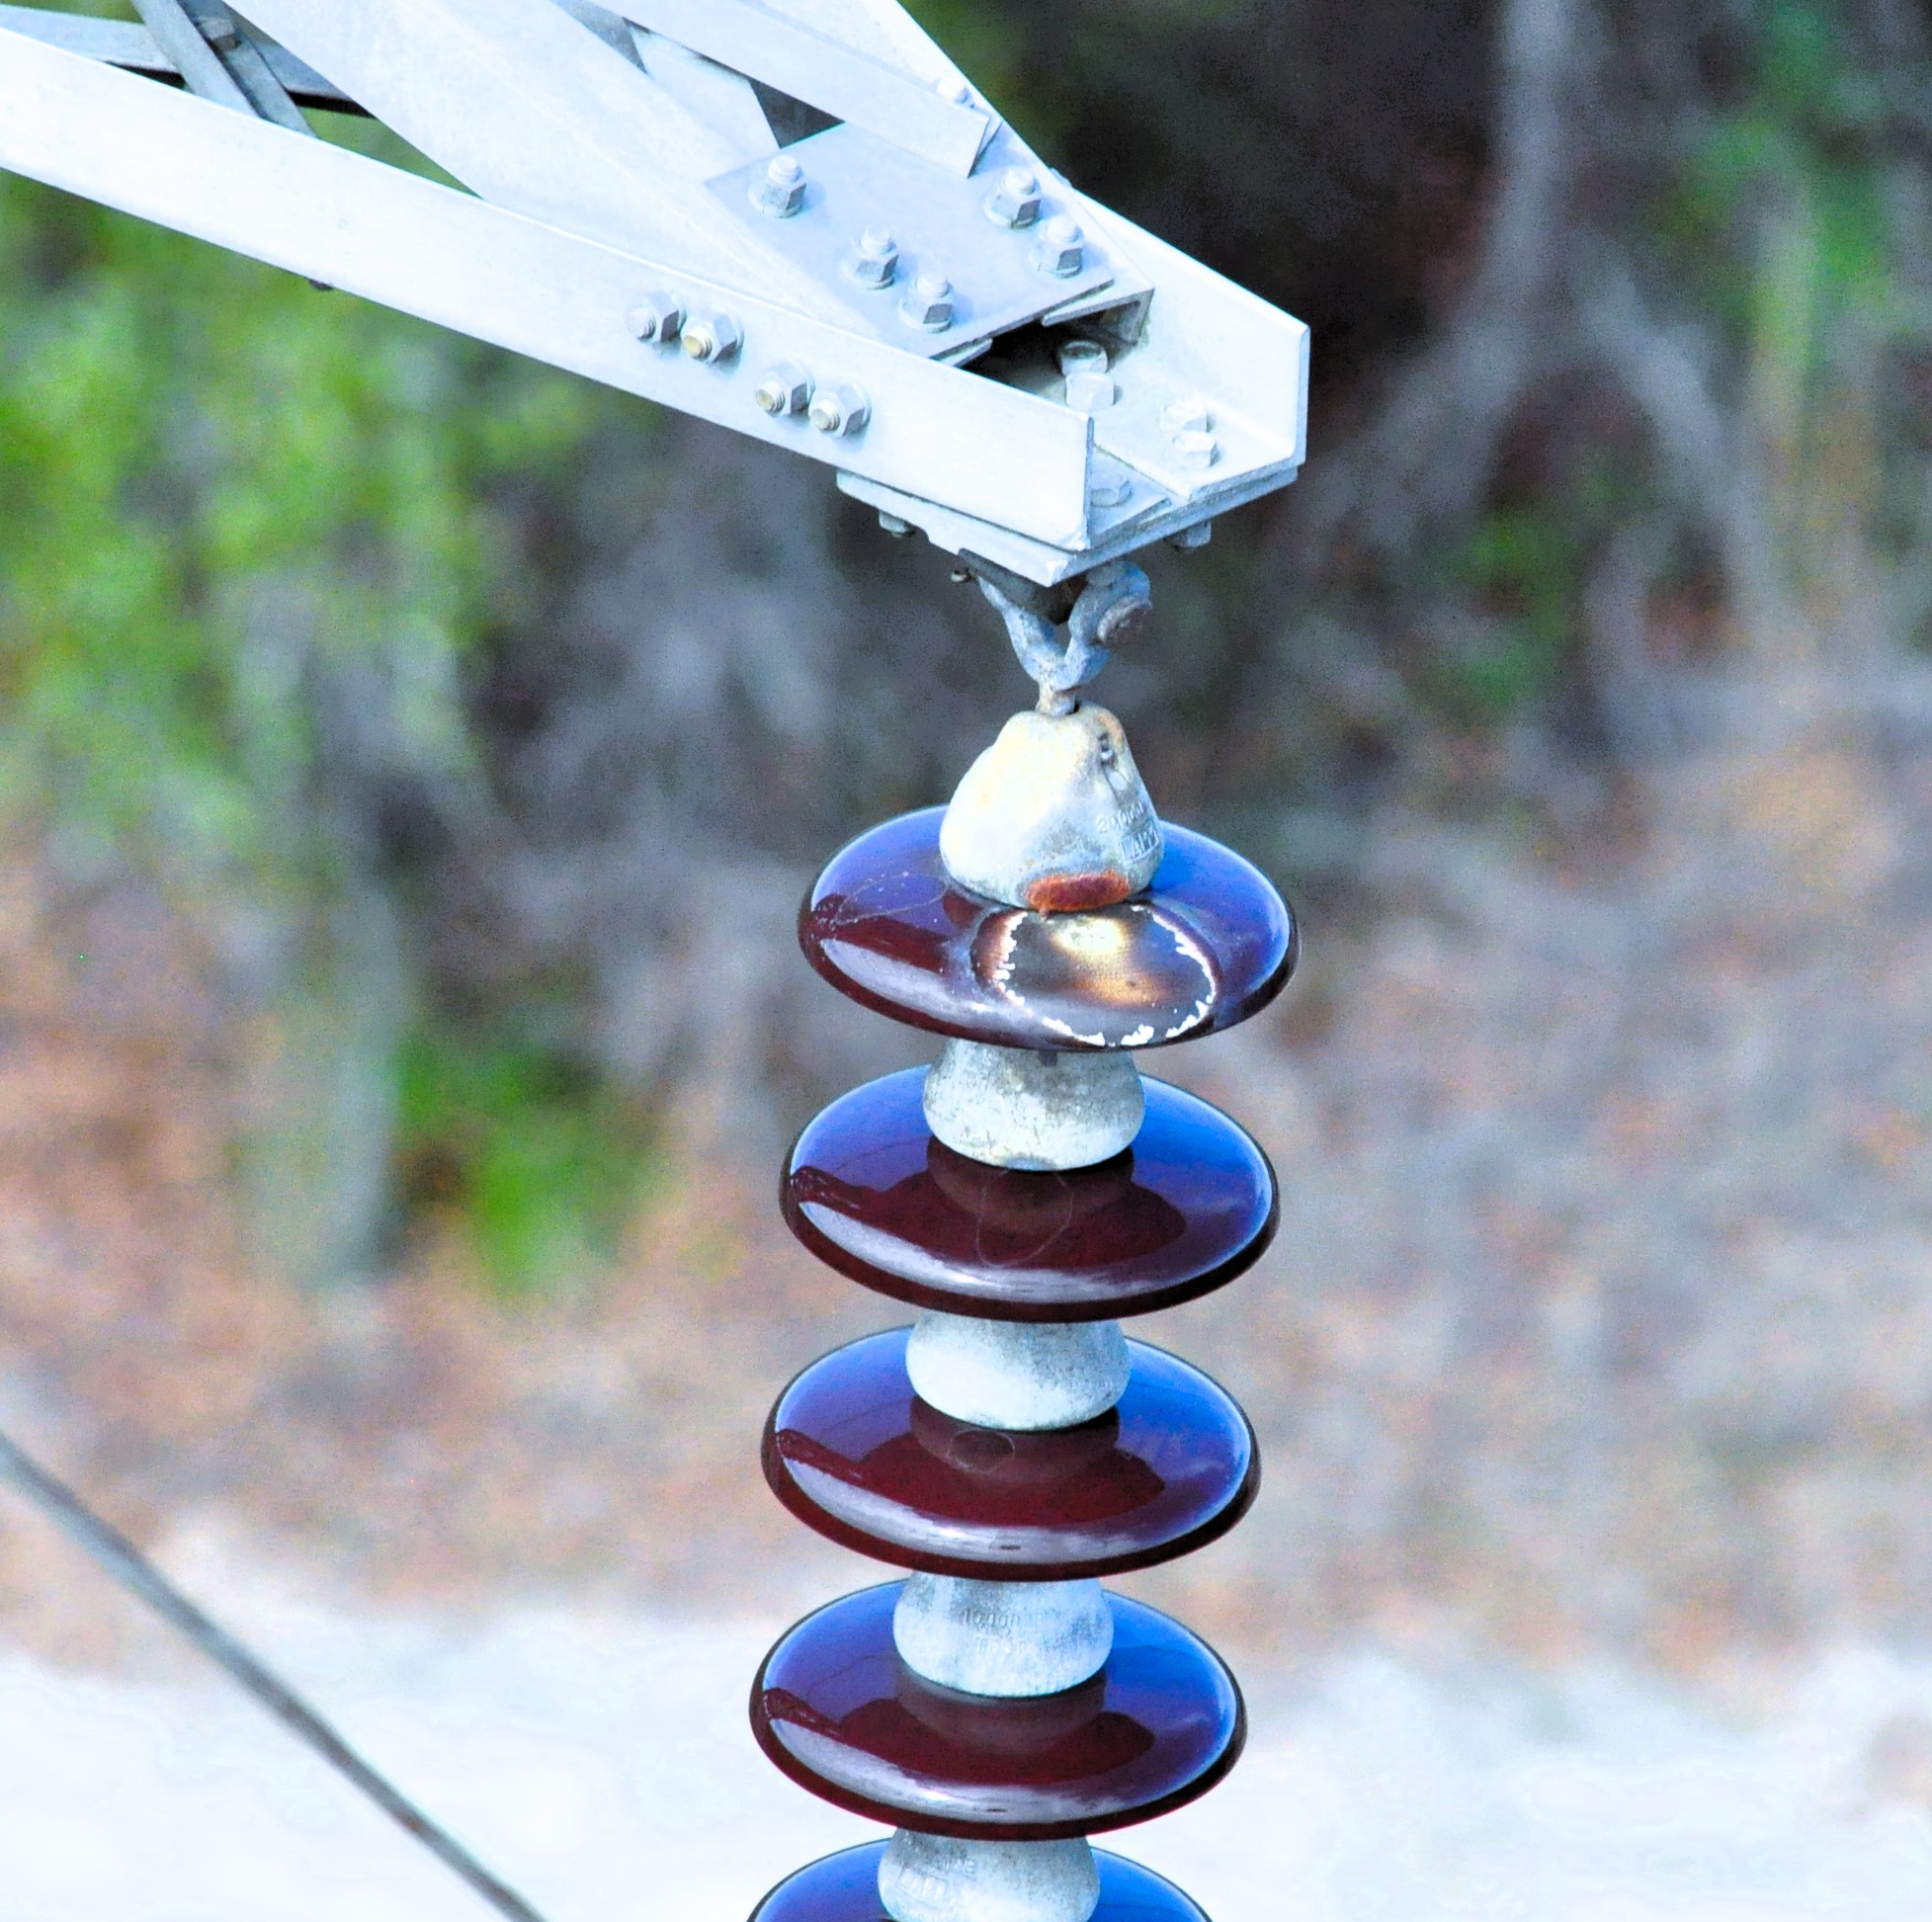Insulator flashover: (779, 783, 1311, 1063)
